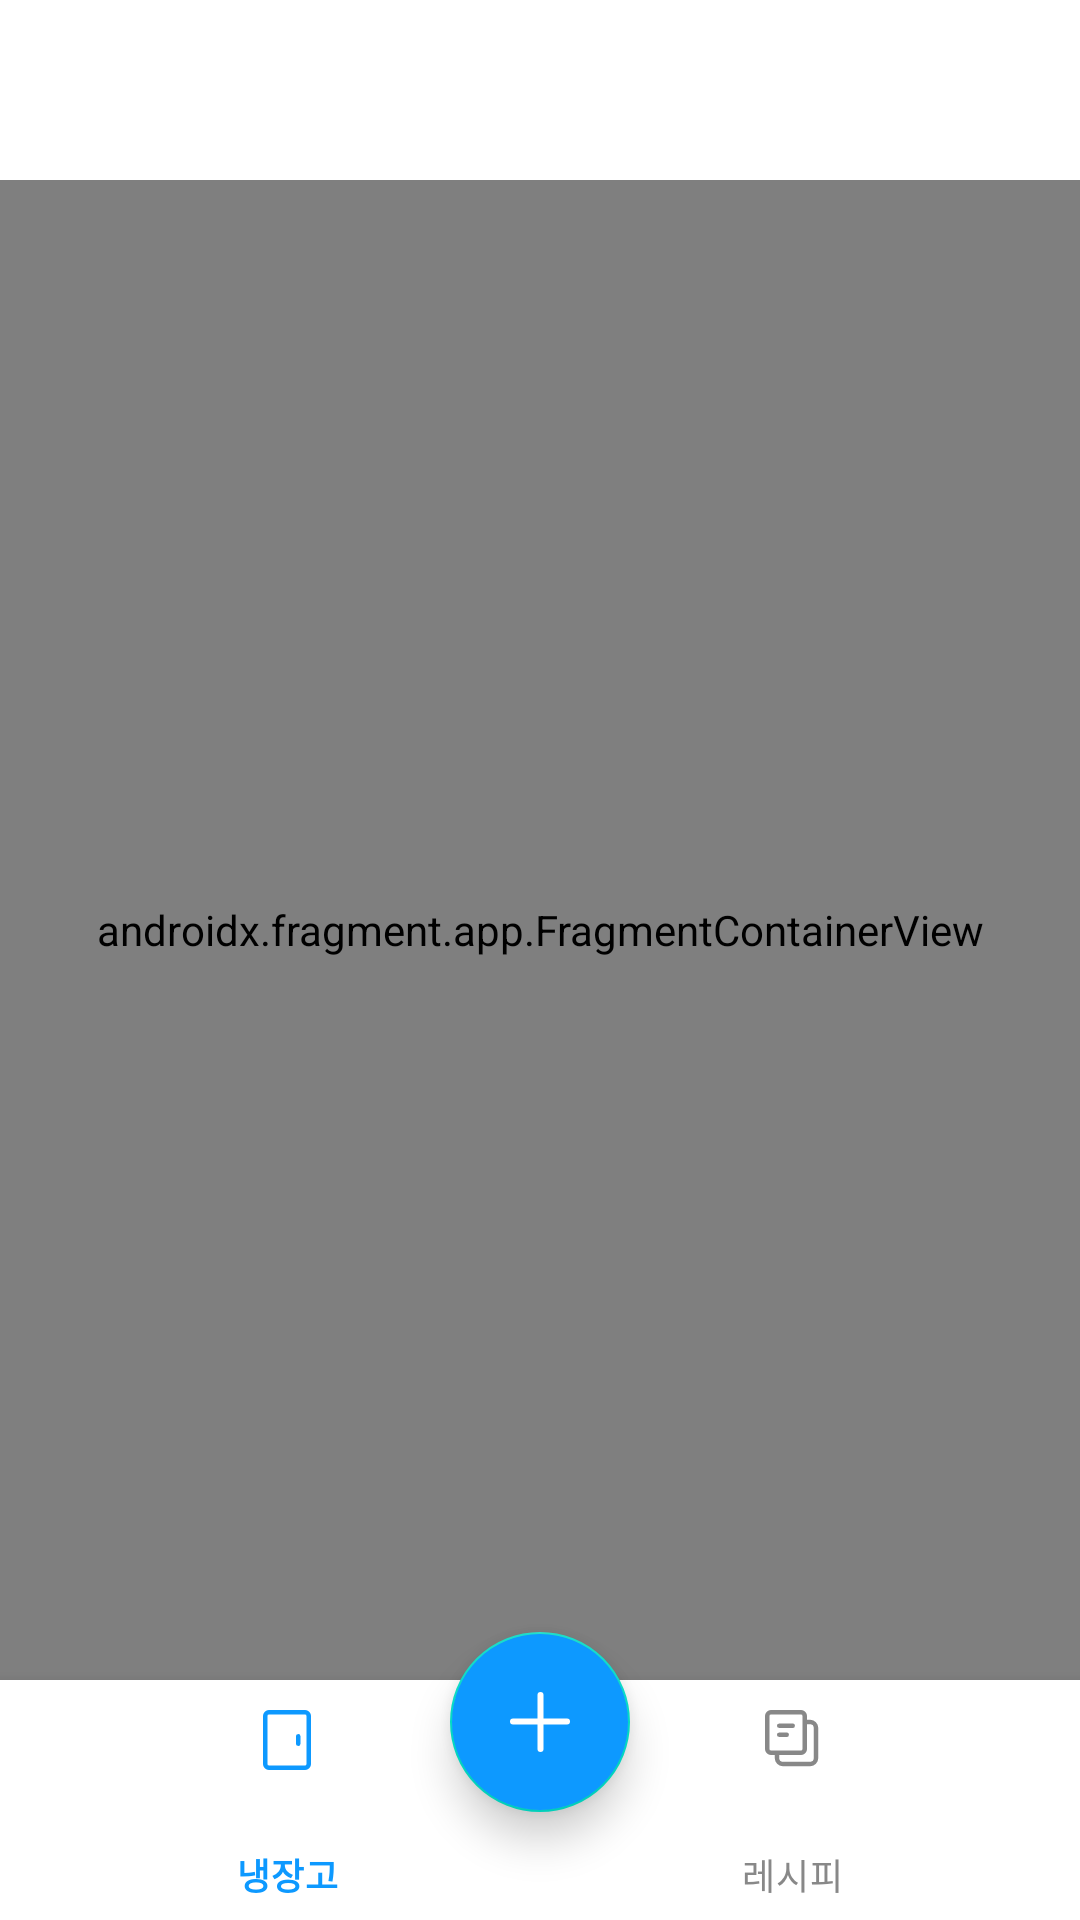

Point at icon controls on the screen. Image size 1080px×1920px, points as point (x, y).
add food: point (540, 1722)
